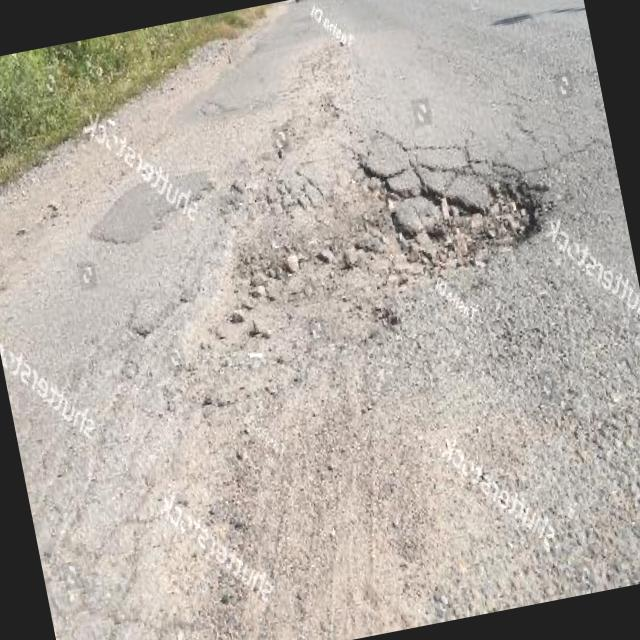Lubang: (359, 132, 536, 267)
